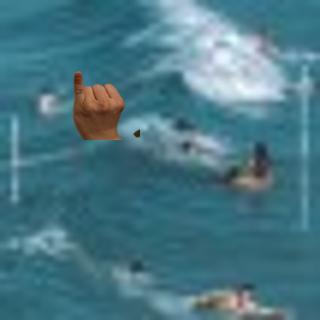FINE: (70, 67, 124, 137)
